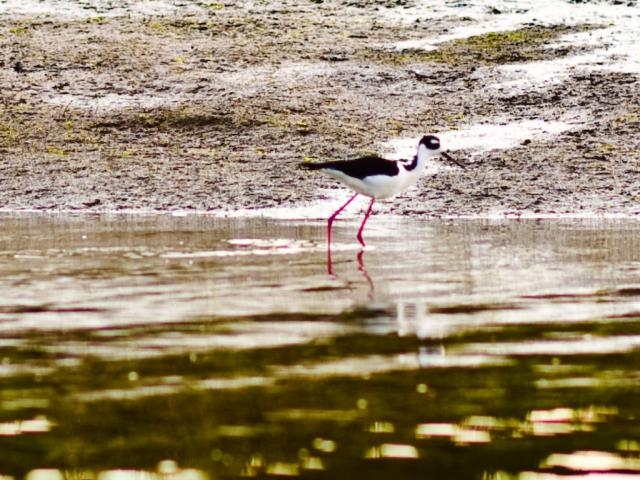Bird: (296, 129, 471, 256)
